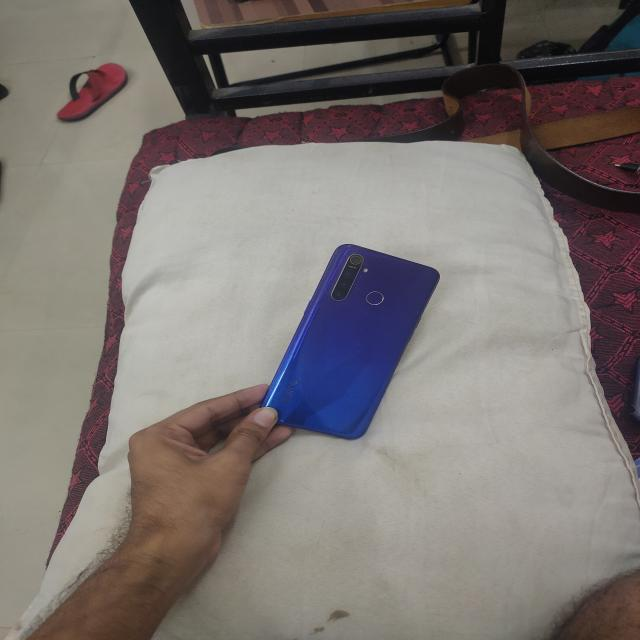Phone: (238, 236, 452, 469)
